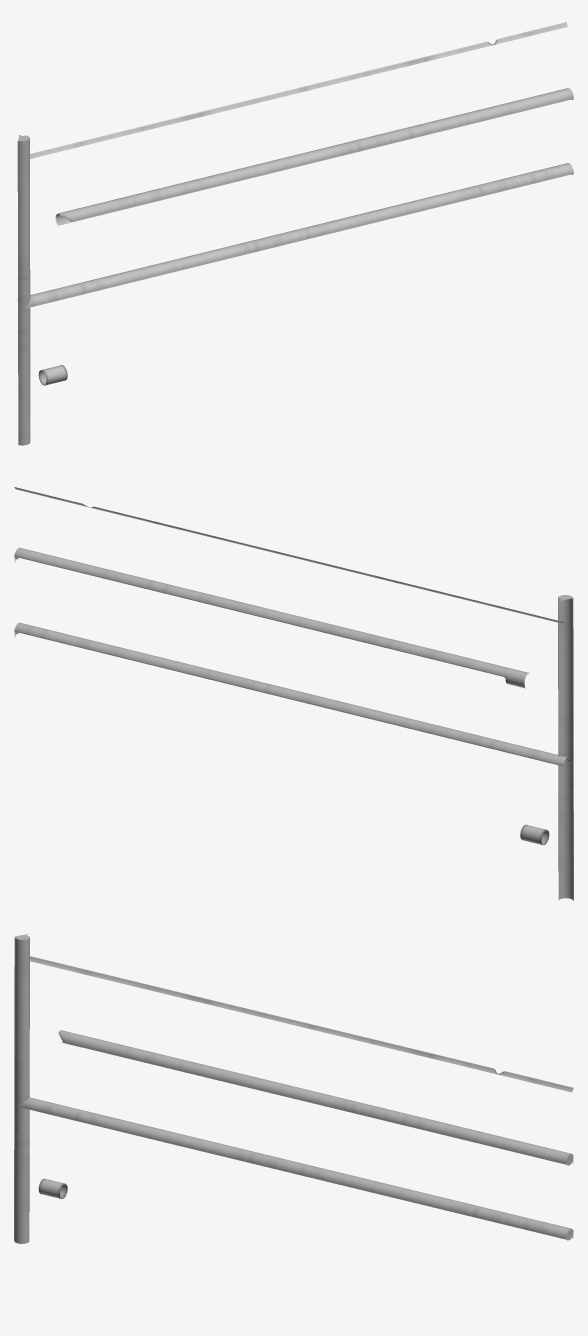
Rendered from Railing_1.fbx.
3 renders of one model, top to bottom at view 1: azimuth 30°, elevation 25°; view 2: azimuth 150°, elevation 25°; view 3: azimuth 330°, elevation 25°, orthographic.
Parts seen in each view (by area): view 1: Railing_1; view 2: Railing_1; view 3: Railing_1.
Boxes of the visible parts, x1,y1,x2,y2 form: Railing_1: (17,22,573,445); Railing_1: (14,487,573,900); Railing_1: (14,934,573,1243).
Size of the model in its own units: 2.49 by 1.3 by 0.0663.
